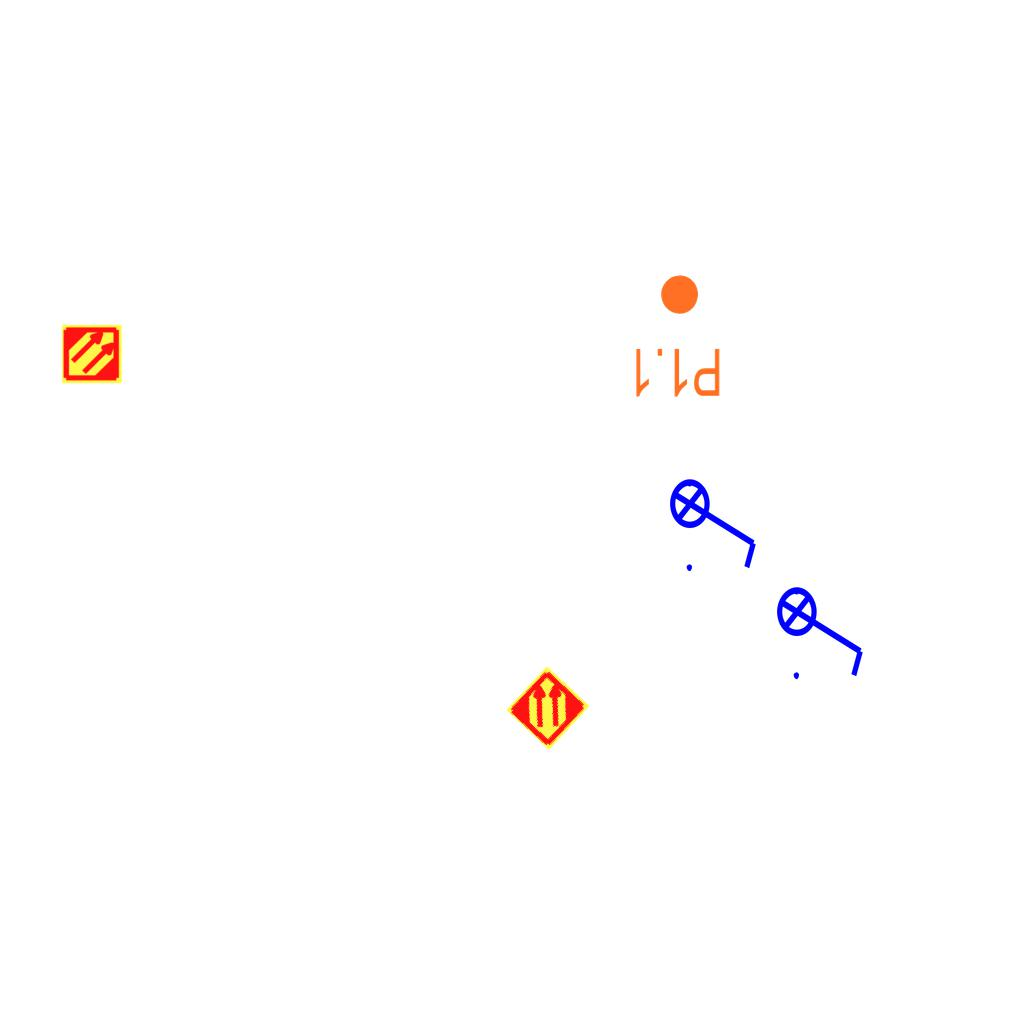ASR_Ansaugrauchmelder: (504, 664, 592, 752), (61, 323, 123, 385)
Ausschalter_beleuchtet: (668, 465, 764, 577), (775, 573, 871, 685)
Downlight_LED_Einbauleuchten_Flur: (630, 272, 723, 400)
